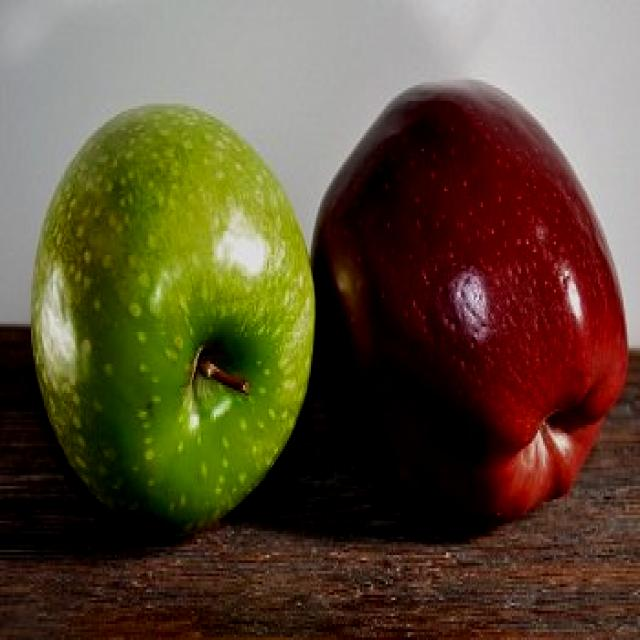apple: (303, 74, 631, 531)
